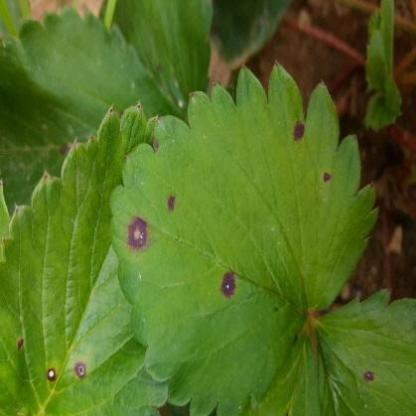Strawberry_Leaf_Spot: (108, 58, 381, 415), (0, 99, 170, 415), (0, 6, 176, 218), (102, 0, 214, 126), (312, 288, 415, 416)
